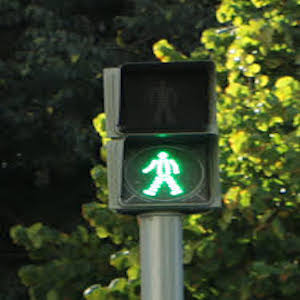green: (137, 151, 184, 198)
